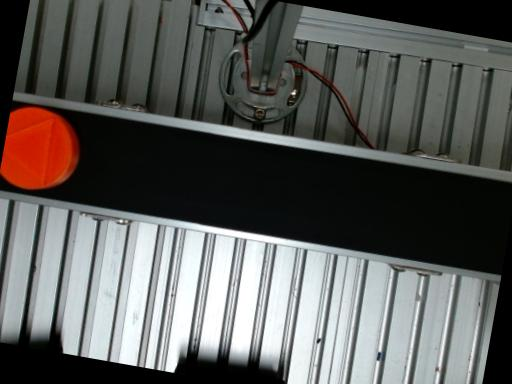Orange_Waper: (0, 107, 79, 189)
